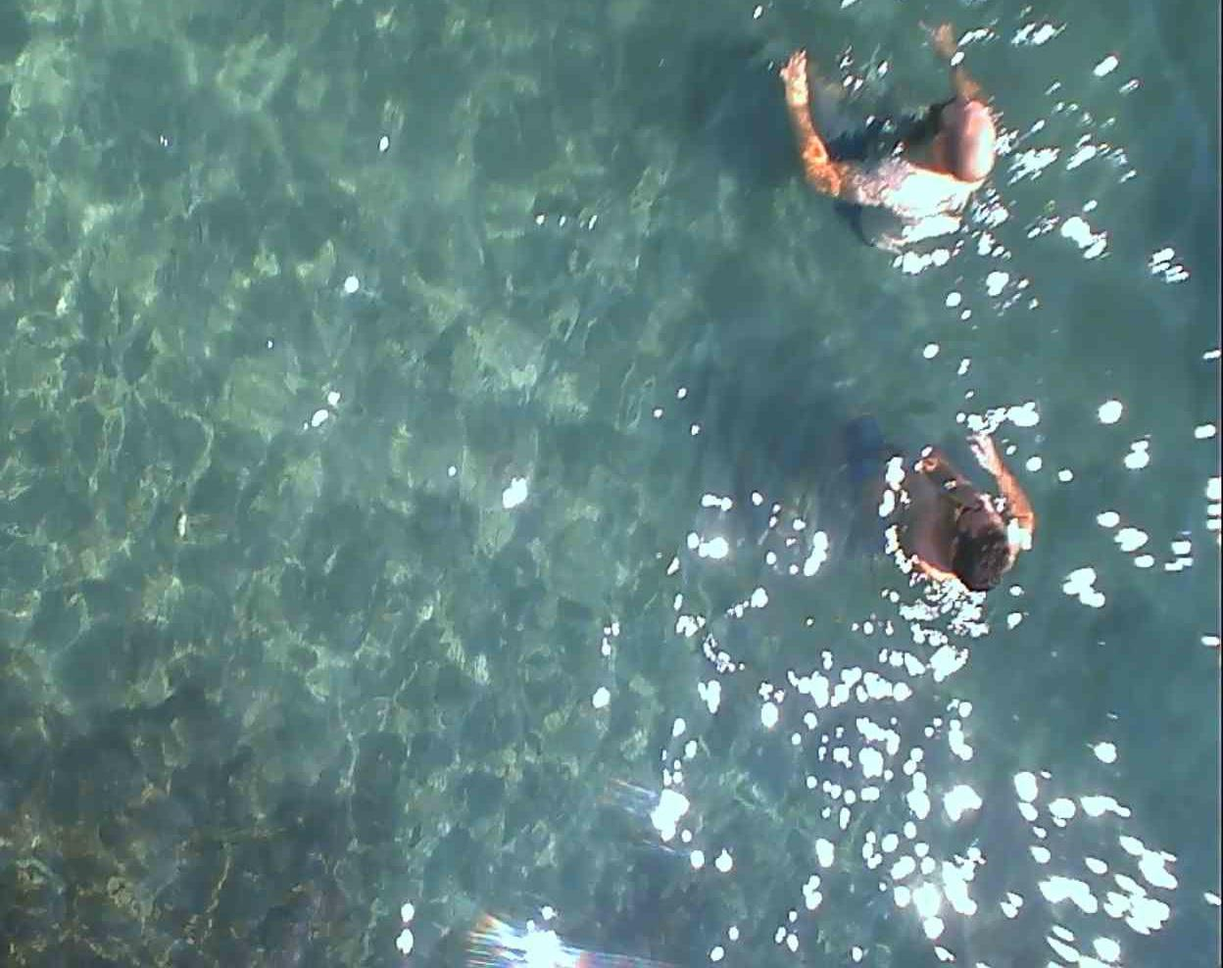swimmer: (801, 26, 1058, 308), (889, 414, 1030, 632)
